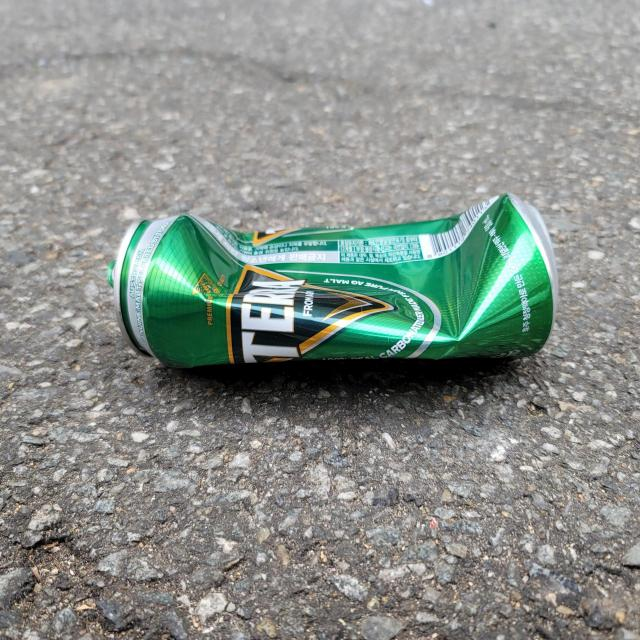can: (110, 194, 559, 368)
